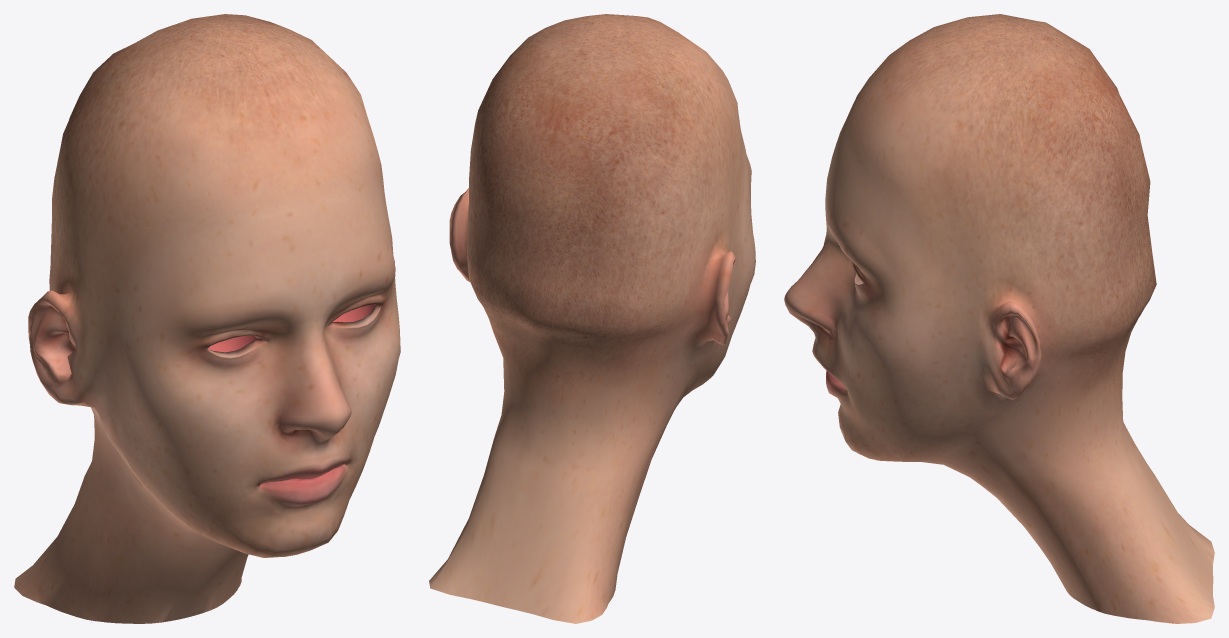
Rendered from outlaw-8.glb.
3 renders of one model, left to right at view 1: azimuth 30°, elevation 25°; view 2: azimuth 150°, elevation 25°; view 3: azimuth 270°, elevation 25°, orthographic. The views are drawn at different scales.
Parts seen in each view (by area): view 1: Starter head; view 2: Starter head; view 3: Starter head.
Part boxes in pixels (x1,y1,x2,y2): Starter head: [14, 14, 400, 623]; Starter head: [429, 14, 755, 623]; Starter head: [784, 14, 1214, 623].
Size of the model in its own units: 0.1711 by 0.2967 by 0.2112.
1 material, 1 textured.
